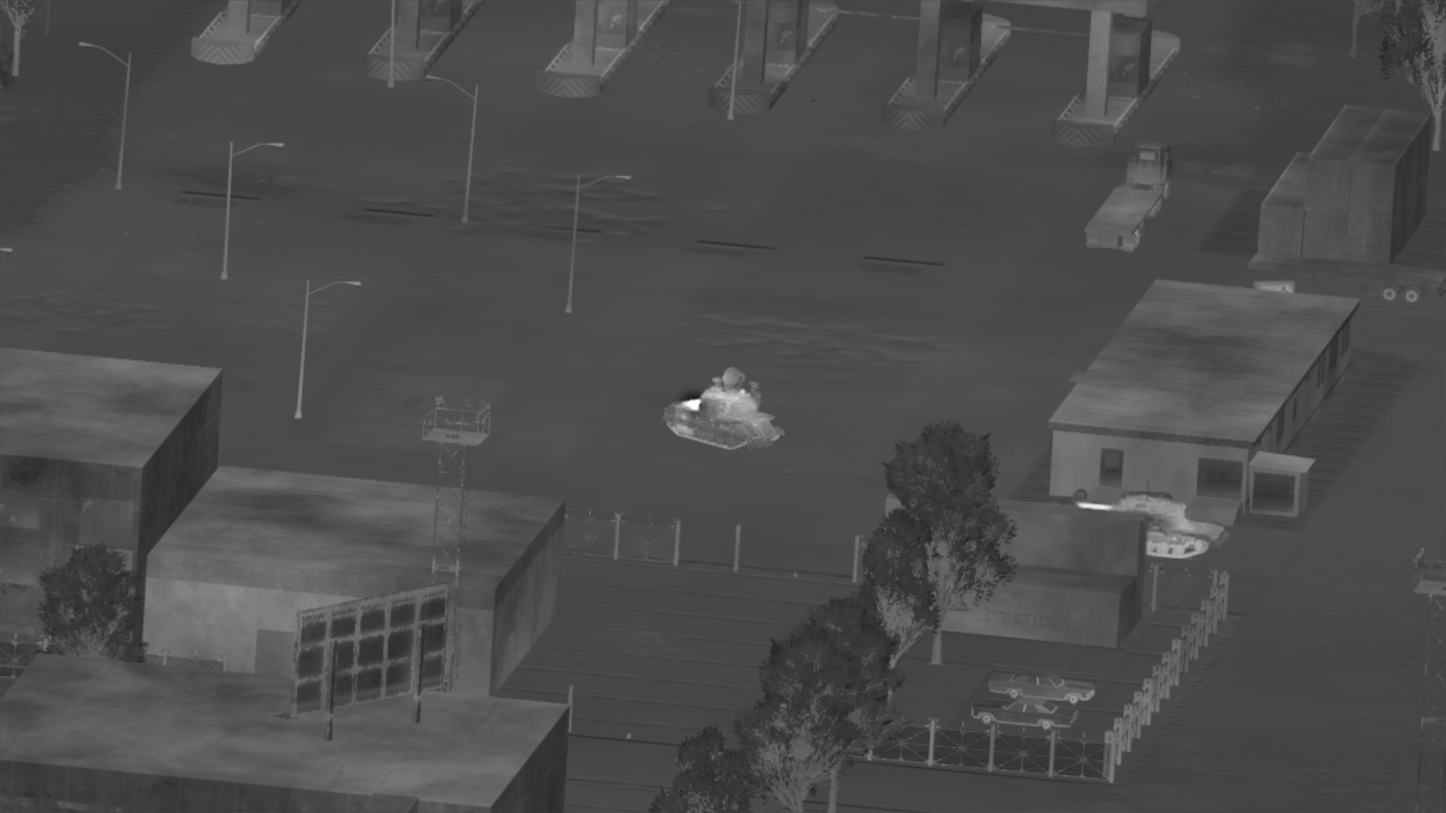spaa_zsu-23: (663, 367, 786, 450)
